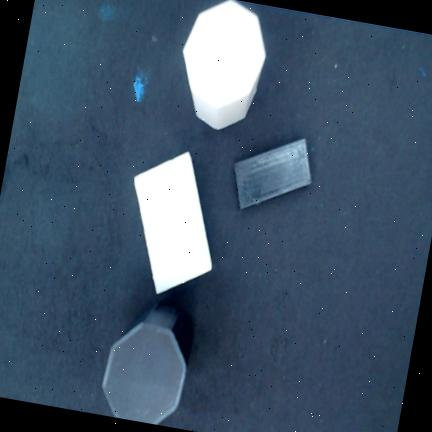Paralelepipedo: (133, 151, 212, 295), (234, 137, 312, 209)
Prisma_hexagonal: (182, 0, 267, 130), (102, 304, 193, 425)
